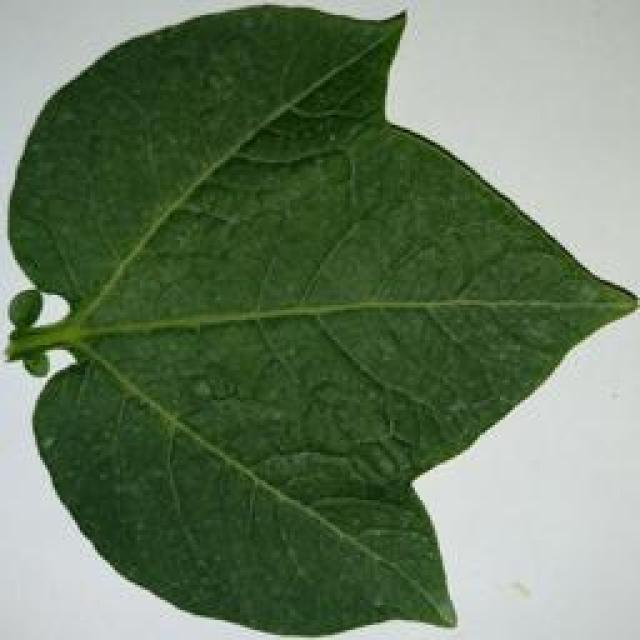Potato_Healthy: (7, 3, 626, 633)
